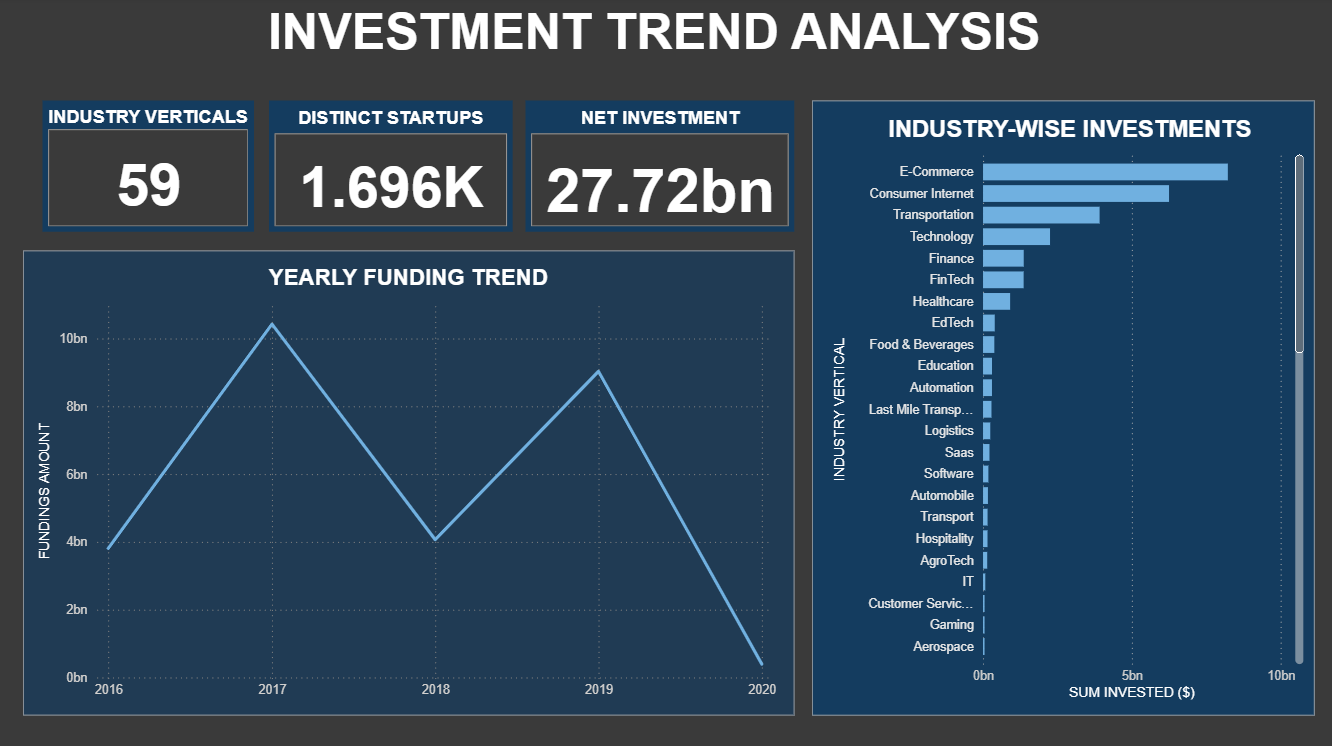

The page's visual inventory and layout, read from the dashboard file:
{"tool":"powerbi","page":{"name":"Investment Trend","canvas":[1280,720],"ordinal":0},"visuals":[{"type":"cardVisual","title":"NET INVESTMENT","fields":{"Data":["Sum(public startup_fundings_new.amount_usd)"]},"box":[509.1,99.2,257,125.2],"z":0},{"type":"cardVisual","title":"DISTINCT STARTUPS","fields":{"Data":["Count(public startup_fundings_new.startup_name)"]},"box":[263.5,99.2,232.6,125.2],"z":1000},{"type":"cardVisual","title":"INDUSTRY VERTICALS","fields":{"Data":["Count(public startup_fundings_new.industry_vertical)"]},"box":[47.2,99.2,201.7,125.2],"z":2000},{"type":"lineChart","title":"YEARLY FUNDING TREND","fields":{"Category":["public startup_fundings_new.funding_date.Variation.Date Hierarchy.Year"],"Y":["Sum(public startup_fundings_new.amount_usd)"]},"box":[29.3,242.4,736.8,444],"z":3000},{"type":"clusteredBarChart","title":"INDUSTRY-WISE INVESTMENTS ","fields":{"Y":["Sum(public startup_fundings_new.amount_usd)"],"Category":["public startup_fundings_new.industry_vertical"]},"box":[782.4,99.2,479.8,587.2],"z":4000},{"type":"textbox","box":[14.6,0,1247.6,66.7],"z":5000}]}

Visuals, with their boxes in screenshot pixels (x1, y1, x2, y2), scaled from the page's 1280x720 canvas onto the 1332x746 screenshot:
"NET INVESTMENT" cardVisual: <region>530, 103, 797, 233</region>
"DISTINCT STARTUPS" cardVisual: <region>274, 103, 516, 233</region>
"INDUSTRY VERTICALS" cardVisual: <region>49, 103, 259, 233</region>
"YEARLY FUNDING TREND" lineChart: <region>30, 251, 797, 711</region>
"INDUSTRY-WISE INVESTMENTS " clusteredBarChart: <region>814, 103, 1313, 711</region>
textbox: <region>15, 0, 1313, 69</region>
